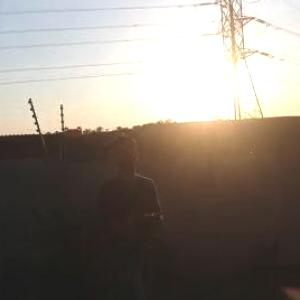follow: (88, 126, 167, 299)
